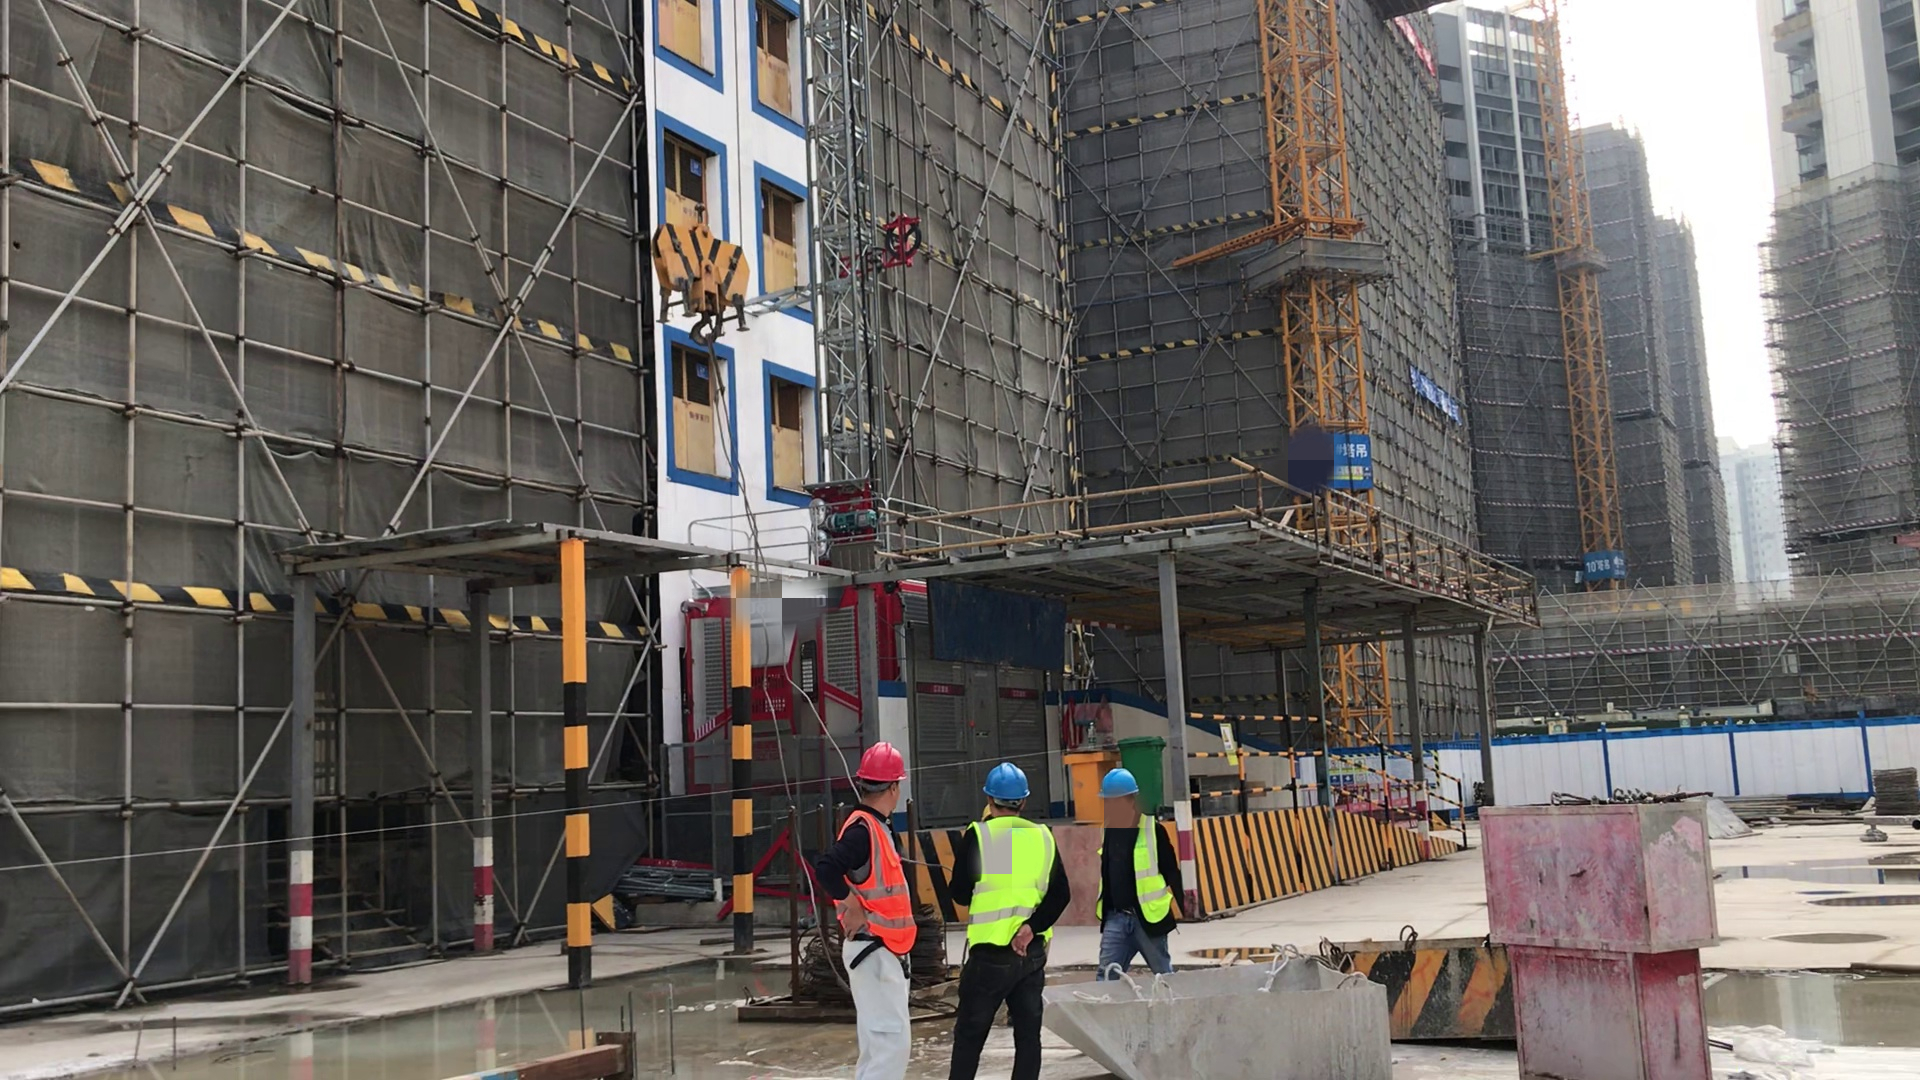ebox: (1067, 753, 1111, 819)
helmet: (856, 741, 906, 782), (984, 763, 1029, 799), (1099, 766, 1139, 796)
hook: (654, 203, 750, 349)
hopper: (1029, 953, 1398, 1080), (1332, 926, 1513, 1049)
person: (955, 765, 1071, 1080), (835, 741, 916, 1080), (1092, 770, 1188, 974)
slogan: (1409, 369, 1461, 427)
vest: (967, 814, 1051, 957), (839, 810, 915, 956), (1097, 818, 1171, 930)
